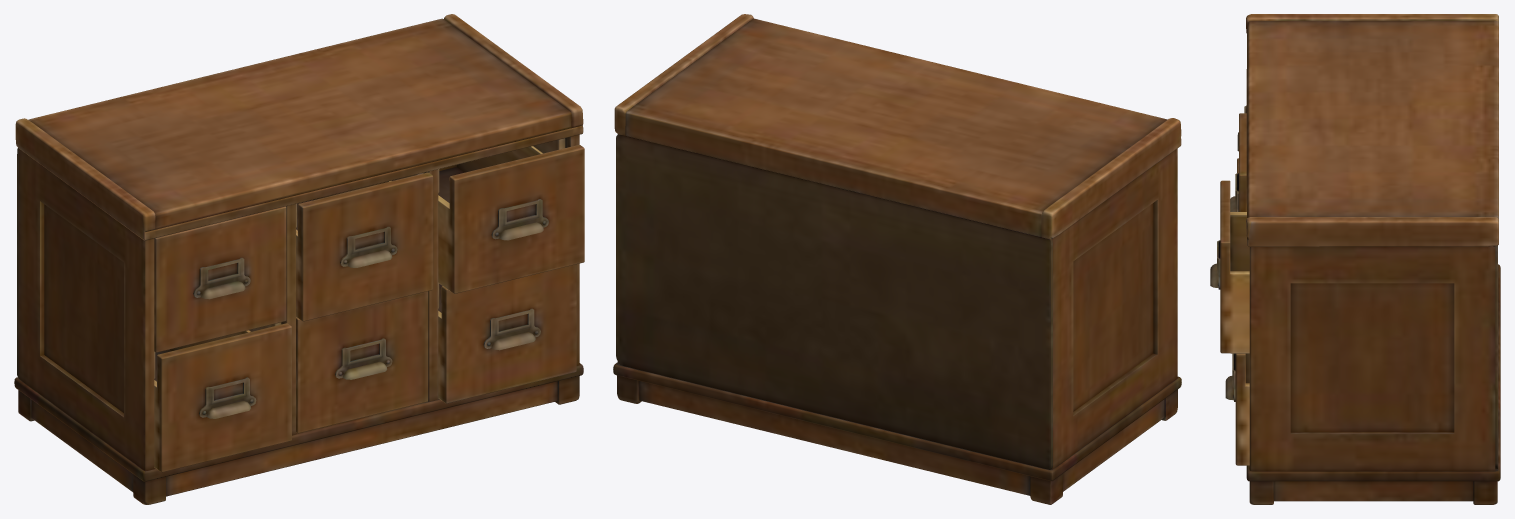
The model's file is vintage_wooden_drawer_01.gltf.
3 views of the same model, side by side, from view 1: azimuth 30°, elevation 25°; view 2: azimuth 150°, elevation 25°; view 3: azimuth 270°, elevation 25° (orthographic). The views are drawn at different scales.
Parts seen in each view (by area): view 1: vintage_wooden_drawer_01_body, vintage_wooden_drawer_01_drawer03, vintage_wooden_drawer_01_drawer04, vintage_wooden_drawer_01_drawer02, vintage_wooden_drawer_01_drawer01, vintage_wooden_drawer_01_drawer06, vintage_wooden_drawer_01_drawer05; view 2: vintage_wooden_drawer_01_body; view 3: vintage_wooden_drawer_01_body, vintage_wooden_drawer_01_drawer03, vintage_wooden_drawer_01_drawer06, vintage_wooden_drawer_01_drawer02.
Part boxes in pixels (box(x1,y1,x2,y2)): vintage_wooden_drawer_01_body: box(14, 14, 583, 504); vintage_wooden_drawer_01_drawer03: box(438, 145, 584, 293); vintage_wooden_drawer_01_drawer04: box(154, 323, 291, 472); vintage_wooden_drawer_01_drawer02: box(296, 172, 433, 321); vintage_wooden_drawer_01_drawer01: box(154, 206, 286, 352); vintage_wooden_drawer_01_drawer06: box(438, 264, 576, 403); vintage_wooden_drawer_01_drawer05: box(296, 291, 428, 433); vintage_wooden_drawer_01_body: box(613, 14, 1181, 504); vintage_wooden_drawer_01_body: box(1246, 14, 1500, 504); vintage_wooden_drawer_01_drawer03: box(1210, 180, 1249, 353); vintage_wooden_drawer_01_drawer06: box(1225, 353, 1249, 465); vintage_wooden_drawer_01_drawer02: box(1230, 113, 1246, 211).
Bounding box in the file's own units: 1.72 × 1.09 × 1.01.
Materials: 1 (1 with a texture image).
